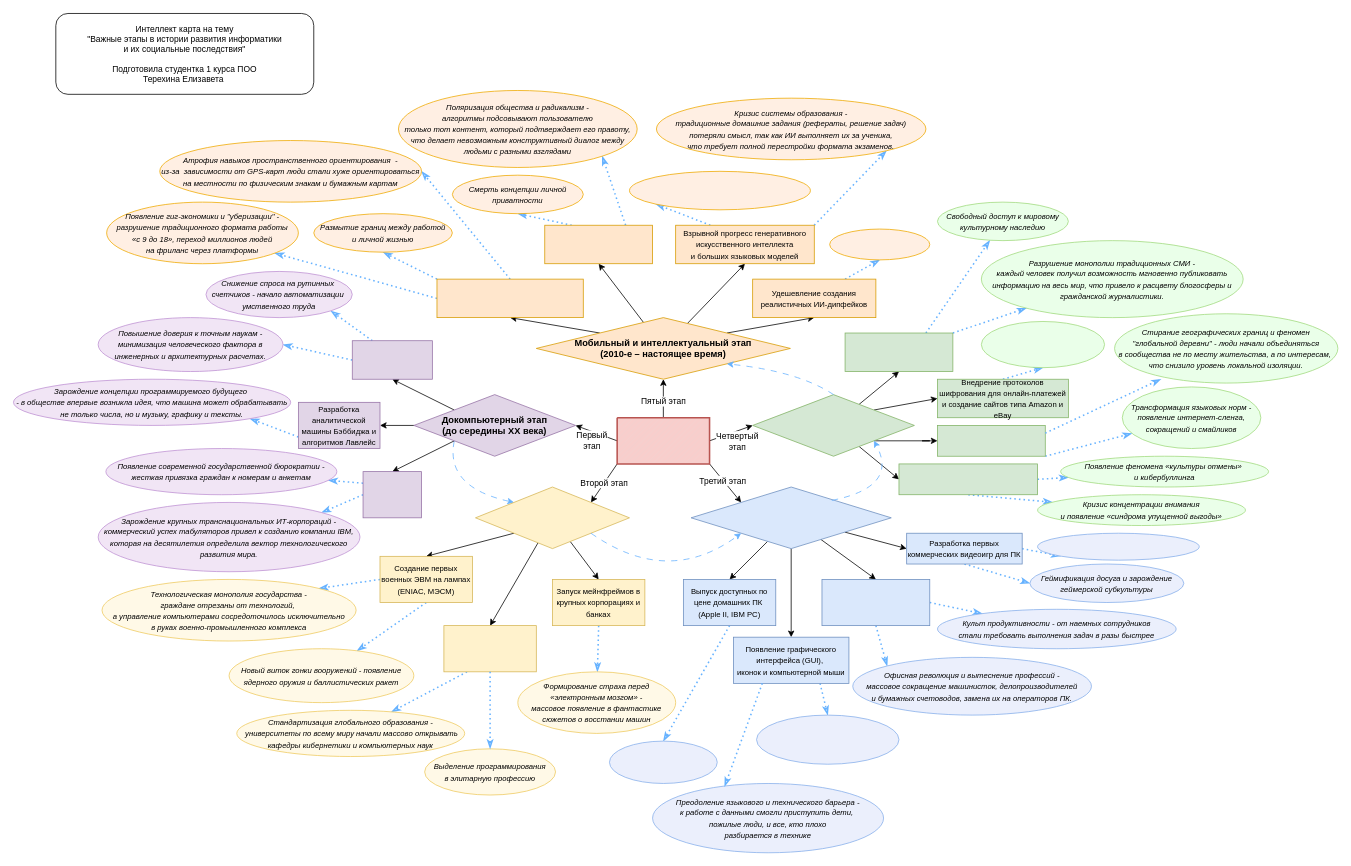
The diagram is 1351 pixels wide and 866 high, and some of its shapes have lost their labels. The centre of each missing label's shape, as x and y in pixels:
"Внедрение перфокартных табуляторов Холлерита" belongs at (x=392, y=494).
"Запуск Всемирной паутины (WWW) и протоколов общего доступа" belongs at (x=898, y=352).
"Зарождение инклюзивной цифровой среды - экранные дикторы, лупы и др." belongs at (x=827, y=739).
"Зарождение первых интерактивных социальных сетей (Web 2.0)" belongs at (x=968, y=479).
"Зарождение ЭВМ (1940-е – 1960-е года)" belongs at (x=552, y=517).
"Изобретение механических калькуляторов" belongs at (x=392, y=359).
"Интеллектуальная безработица и удешевление квалифицированного труда" belongs at (x=719, y=190).
"Кризис доверия к информации" belongs at (x=879, y=244).
"Переход на транзисторы и появление первых операционных систем" belongs at (x=489, y=648).
"Персональные компьютеры (1970-е – 1980-е года)" belongs at (x=790, y=517).
"Повсеместное внедрение смартфонов, мобильного интернета 4G/5G и GPS-навигации" belongs at (x=509, y=298).
"Появление электронной почты, чатов и форумов" belongs at (x=991, y=440).
"Развитие информатики" belongs at (x=663, y=440).
"Развитие малого бизнеса и самозанятости" belongs at (x=663, y=761).
"Развитие систем Больших Данных (Big Data) и алгоритмов таргетинга" belongs at (x=598, y=244).
"Рождение новой индустрии развлечений" belongs at (x=1118, y=546).
"Сетевой этап (1990-е – 2000-е года)" belongs at (x=833, y=425).
"Создание первых текстовых процессоров и электронных таблиц (типа VisiCalc)" belongs at (x=875, y=602).
"Трансформация торговли и изменение городской среды" belongs at (x=1043, y=344).
